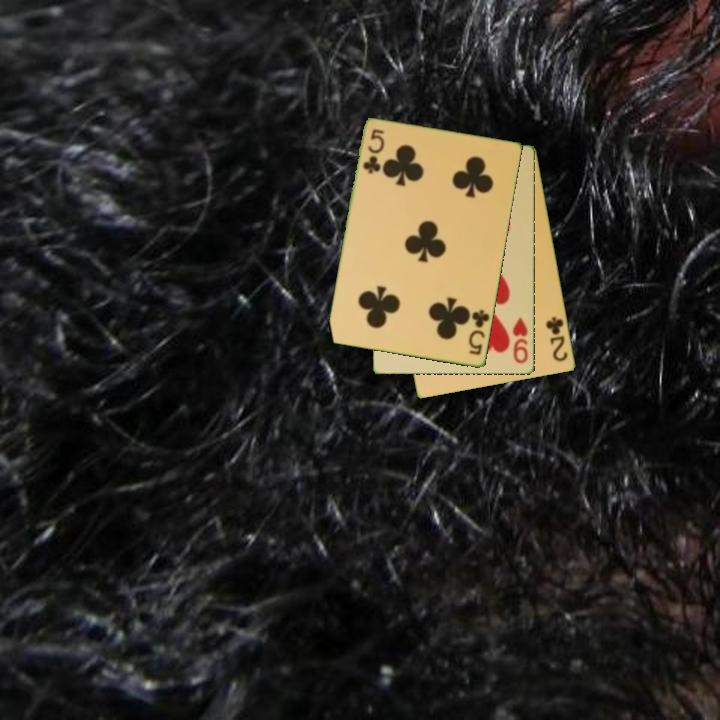2c: (542, 313, 571, 365)
5c: (360, 126, 388, 177), (465, 306, 492, 358)
9h: (509, 314, 531, 366)
